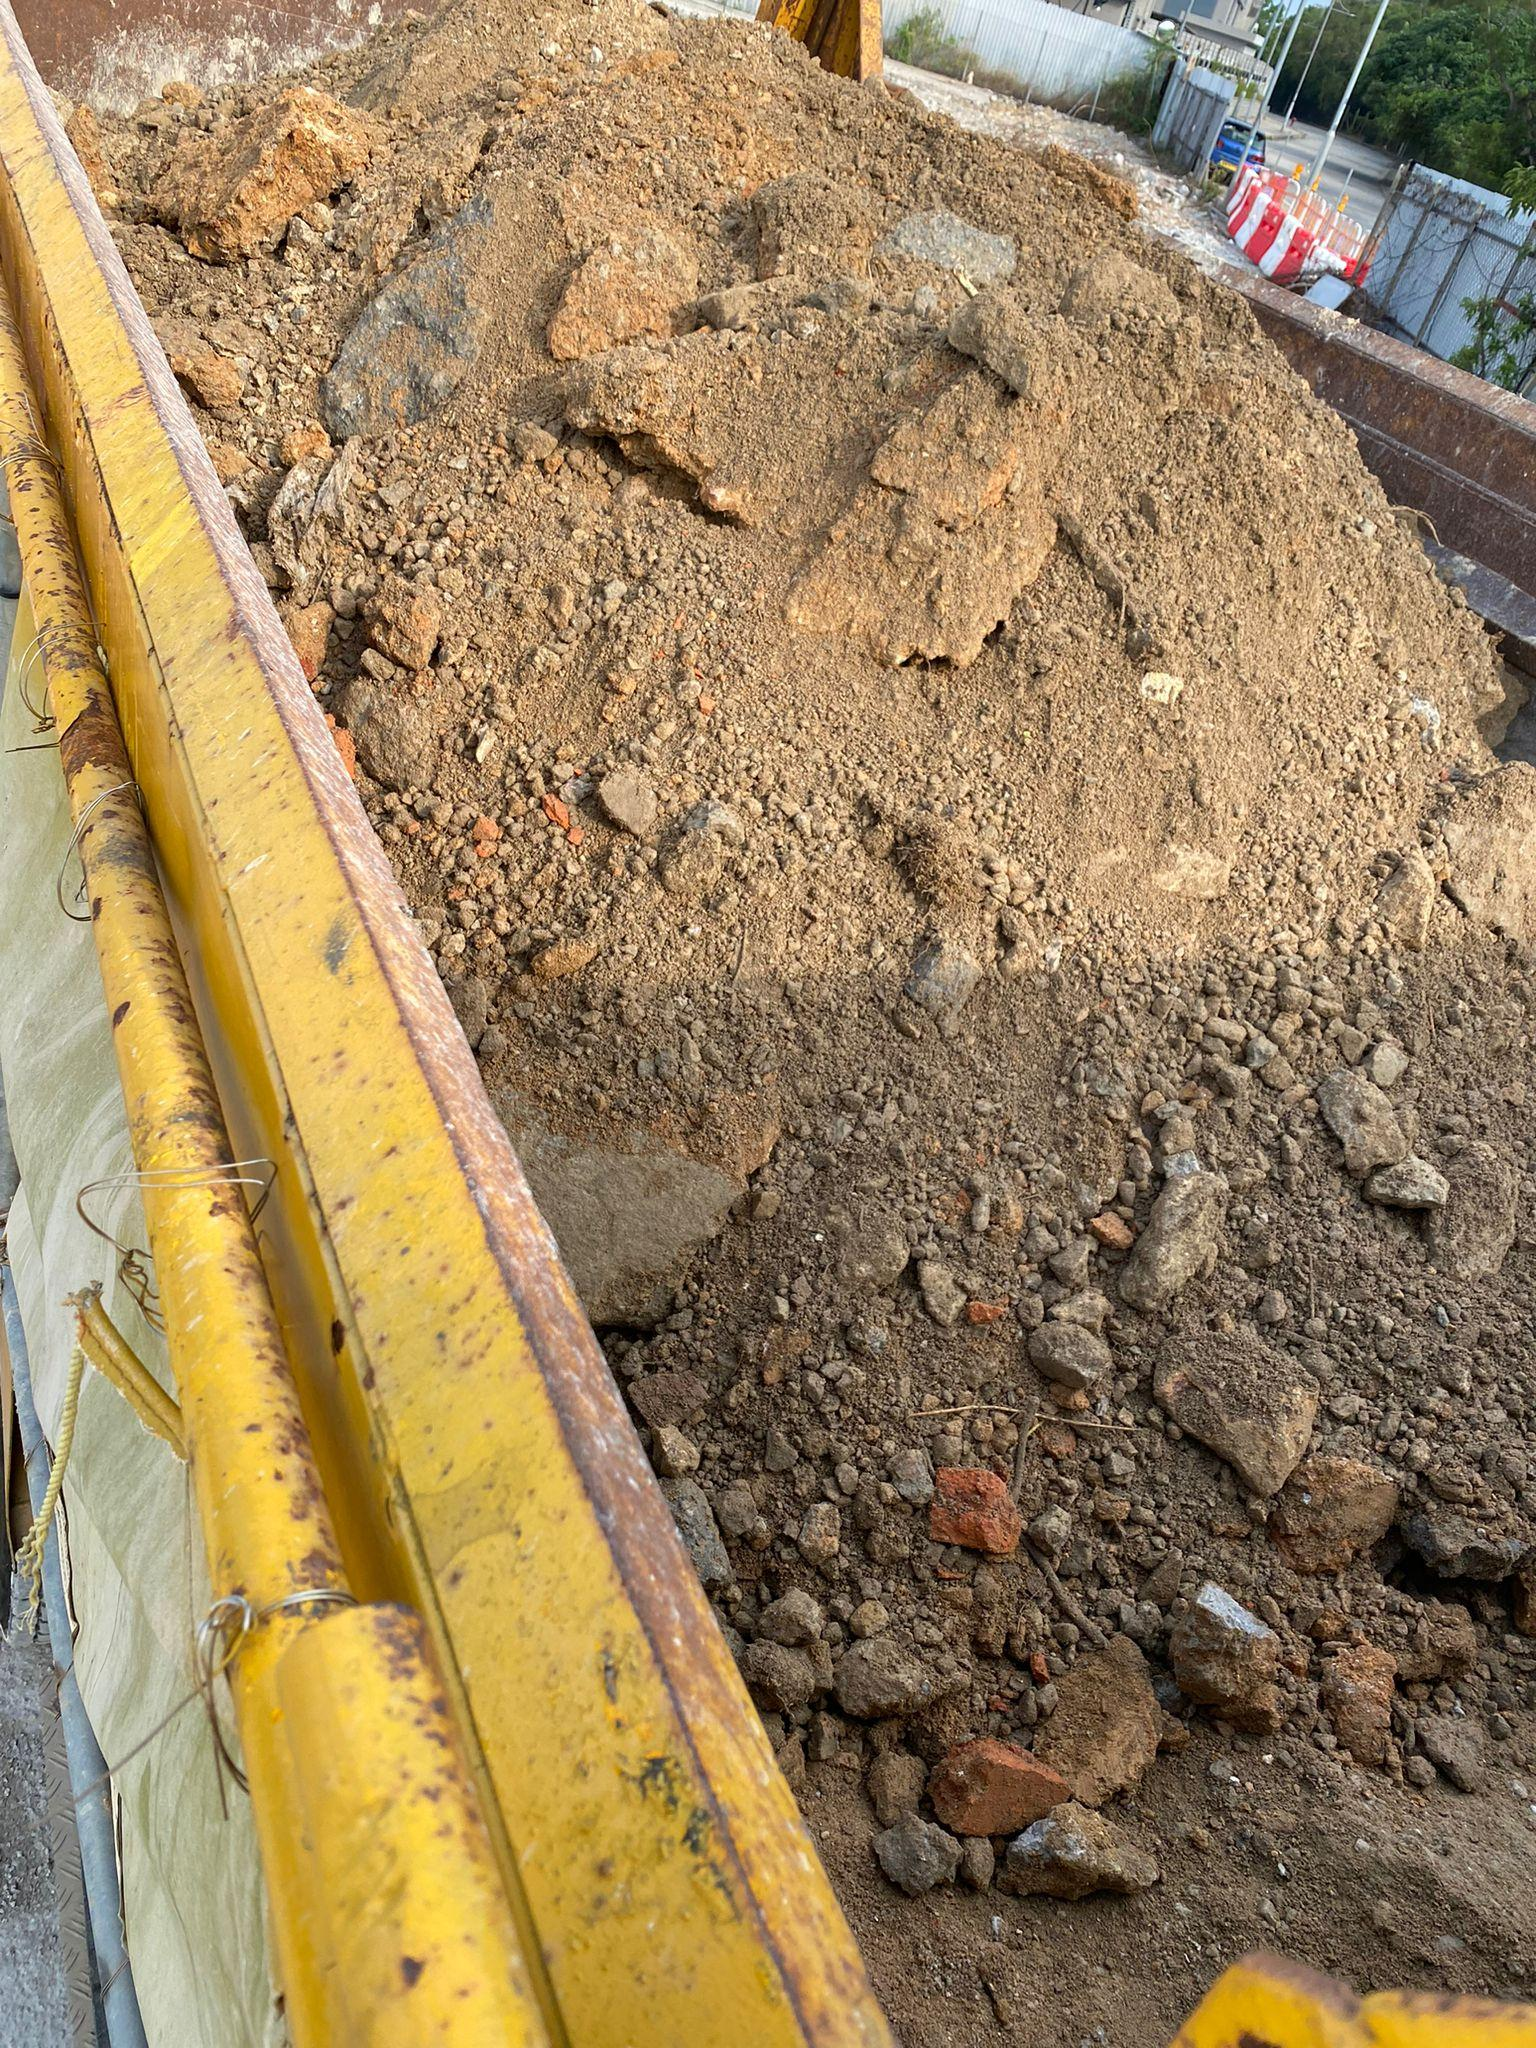dry: (53, 13, 1536, 1837)
